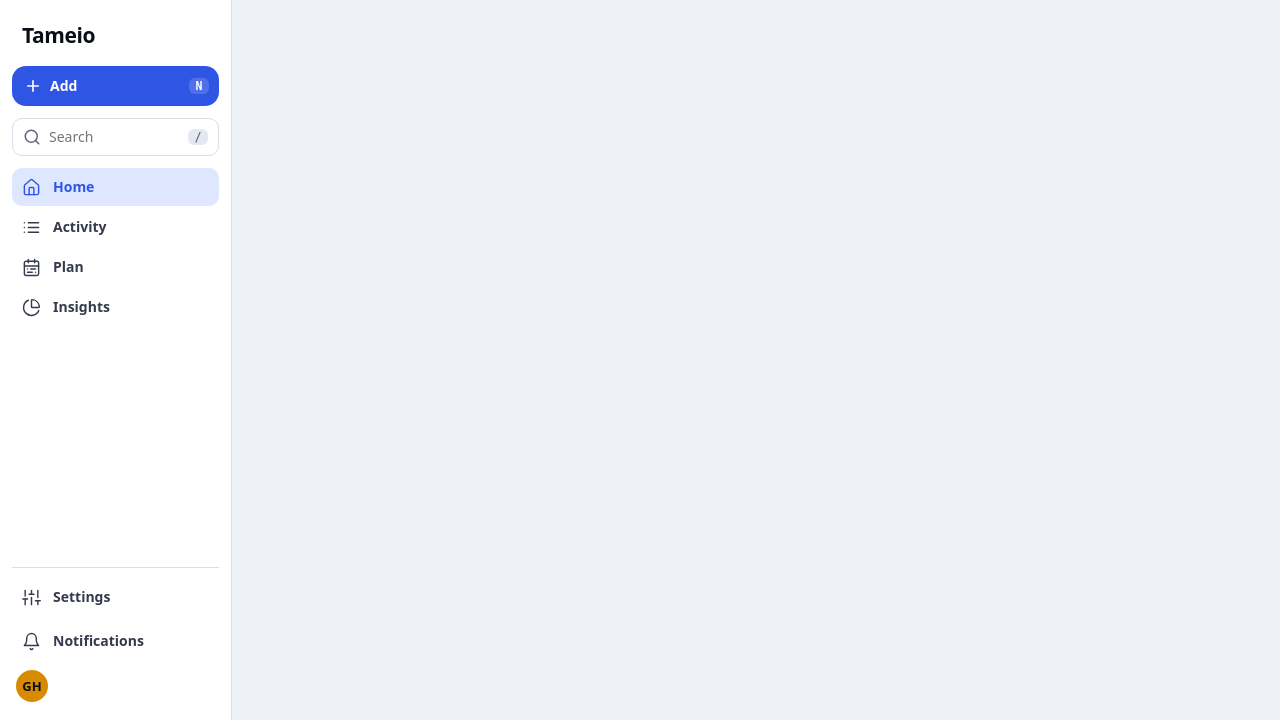
Test case: desktop: the sidebar avatar opens the account sheet with Sign out
Click the button with aria-label "Account" at x=32, y=686, box [12,666,52,706]
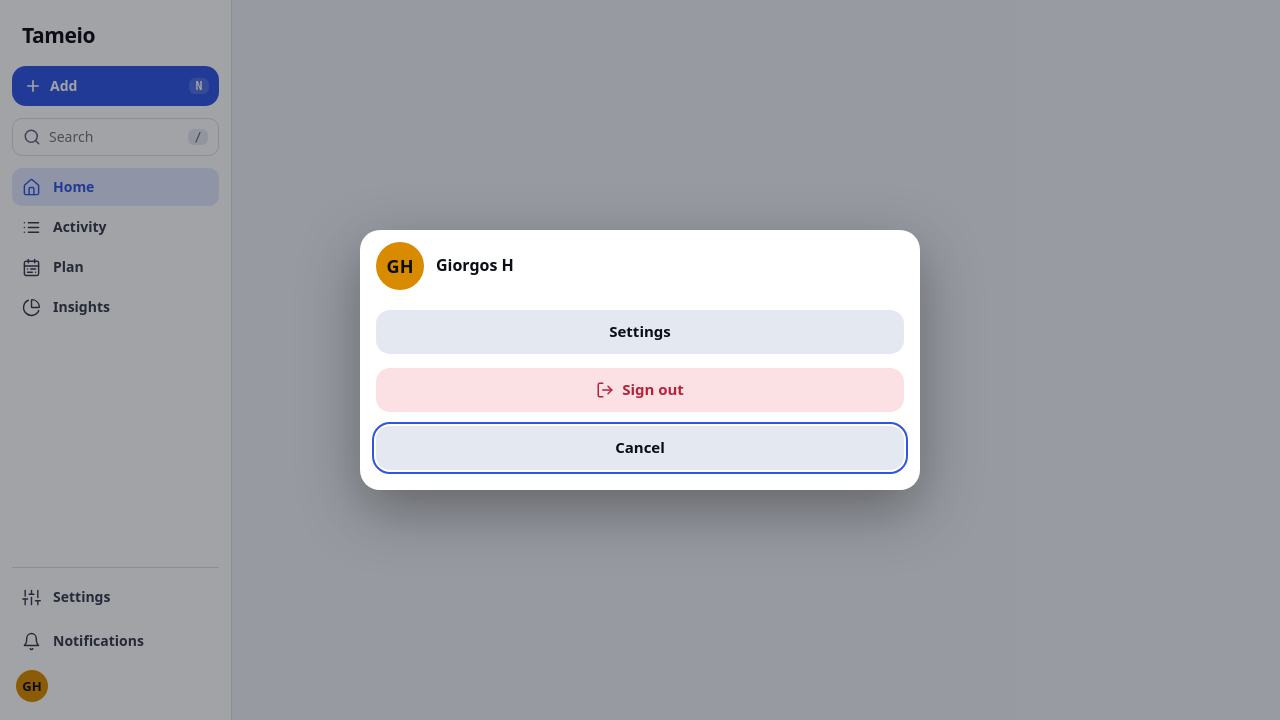
Check: the button "Sign out" is shown, box [376,368,904,412]
